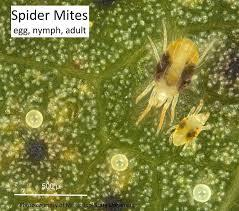Insects: (131, 18, 217, 140), (161, 98, 214, 154)
